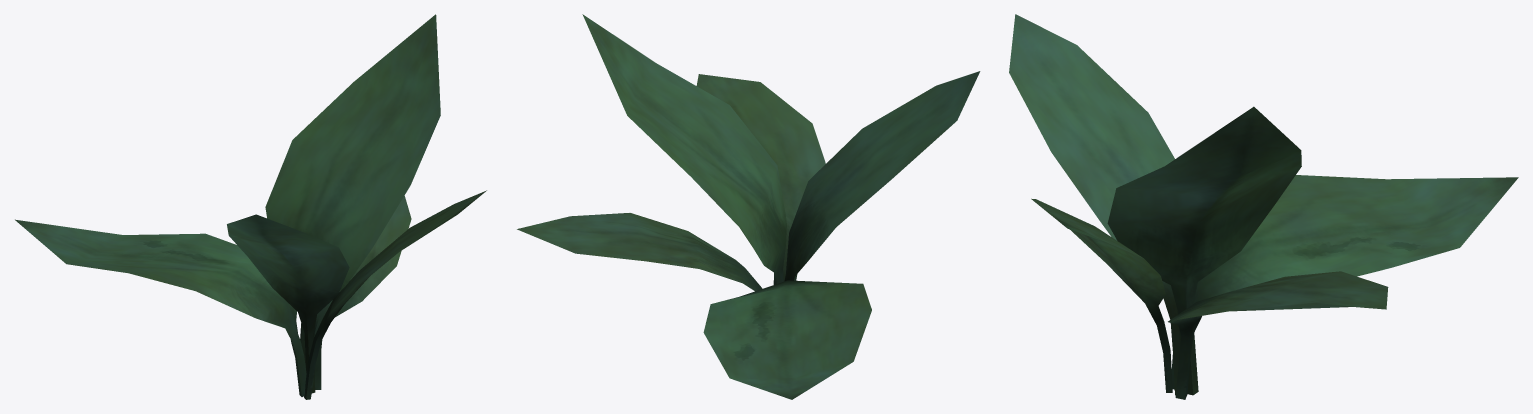
File: leaves.fbx
The picture shows the model from 3 angles, left to right: view 1: azimuth 30°, elevation 25°; view 2: azimuth 150°, elevation 25°; view 3: azimuth 270°, elevation 25°; orthographic projection. The views are drawn at different scales.
Visible parts, largest first — view 1: Cube.003; view 2: Cube.003; view 3: Cube.003.
Part boxes in pixels (x1,y1,x2,y2): Cube.003: [15, 14, 486, 399]; Cube.003: [517, 14, 980, 399]; Cube.003: [1009, 14, 1518, 399].
Bounding box in the file's own units: 152 × 144 × 174.
1 material, 1 textured.
